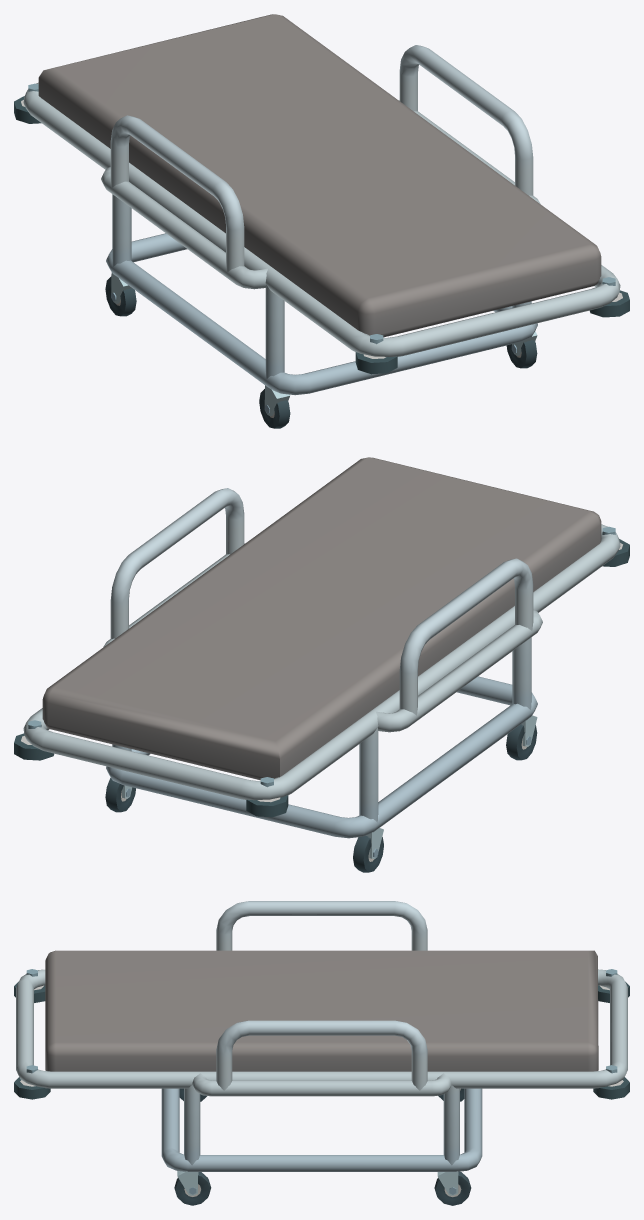
The model's file is Pfb_JLAB_Bed.fbx.
3 views of the same model, one above another, from view 1: azimuth 30°, elevation 25°; view 2: azimuth 150°, elevation 25°; view 3: azimuth 270°, elevation 25° (orthographic). The views are drawn at different scales.
Visible parts, largest first — view 1: Color, Metal; view 2: Color, Metal; view 3: Color, Metal.
Part boxes in pixels (x1,y1,x2,y2): Color: (14, 14, 629, 428); Metal: (23, 45, 620, 416); Color: (14, 457, 629, 872); Metal: (23, 488, 620, 858); Color: (14, 950, 629, 1205); Metal: (16, 901, 627, 1195).
Size of the model in its own units: 1.25 by 0.883 by 2.56.
2 materials, 2 textured.
